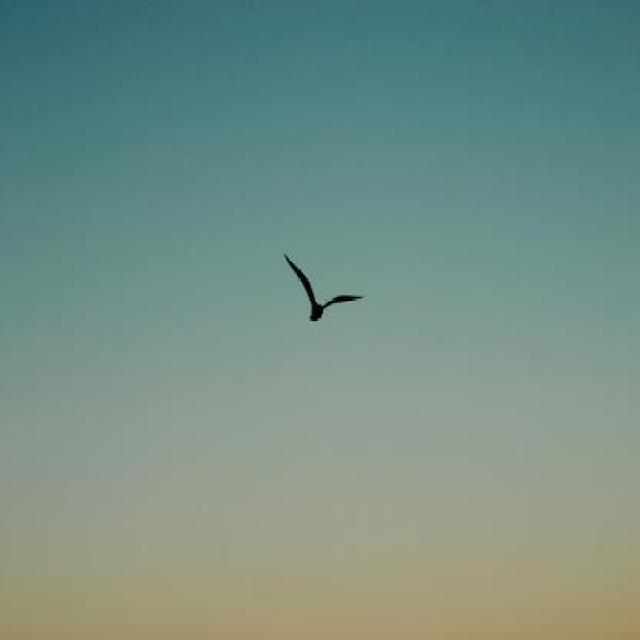bird: (285, 253, 366, 321)
